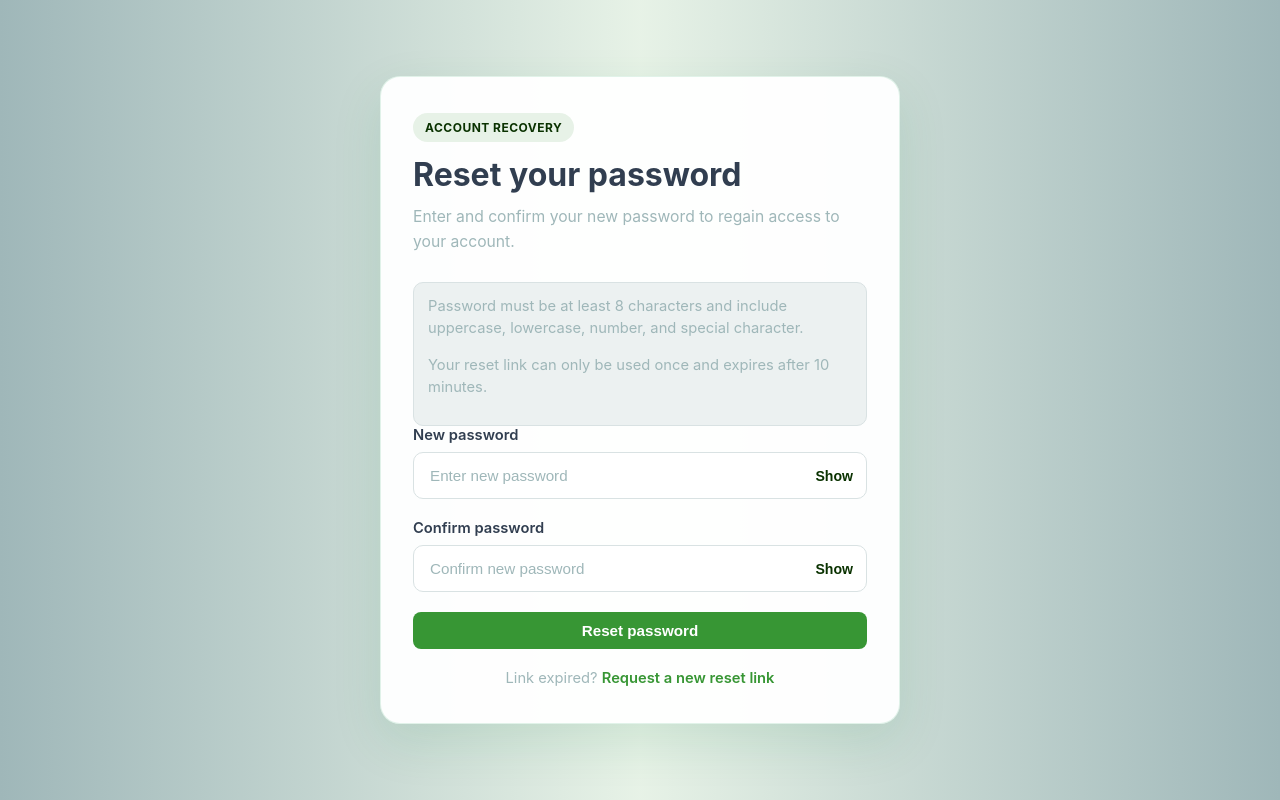
Test case: ResetPasswordPage › shows password mismatch validation
Type "Password1234@" into the password field labelled "New password" at coordinates (640, 476), box [413,452,867,499]
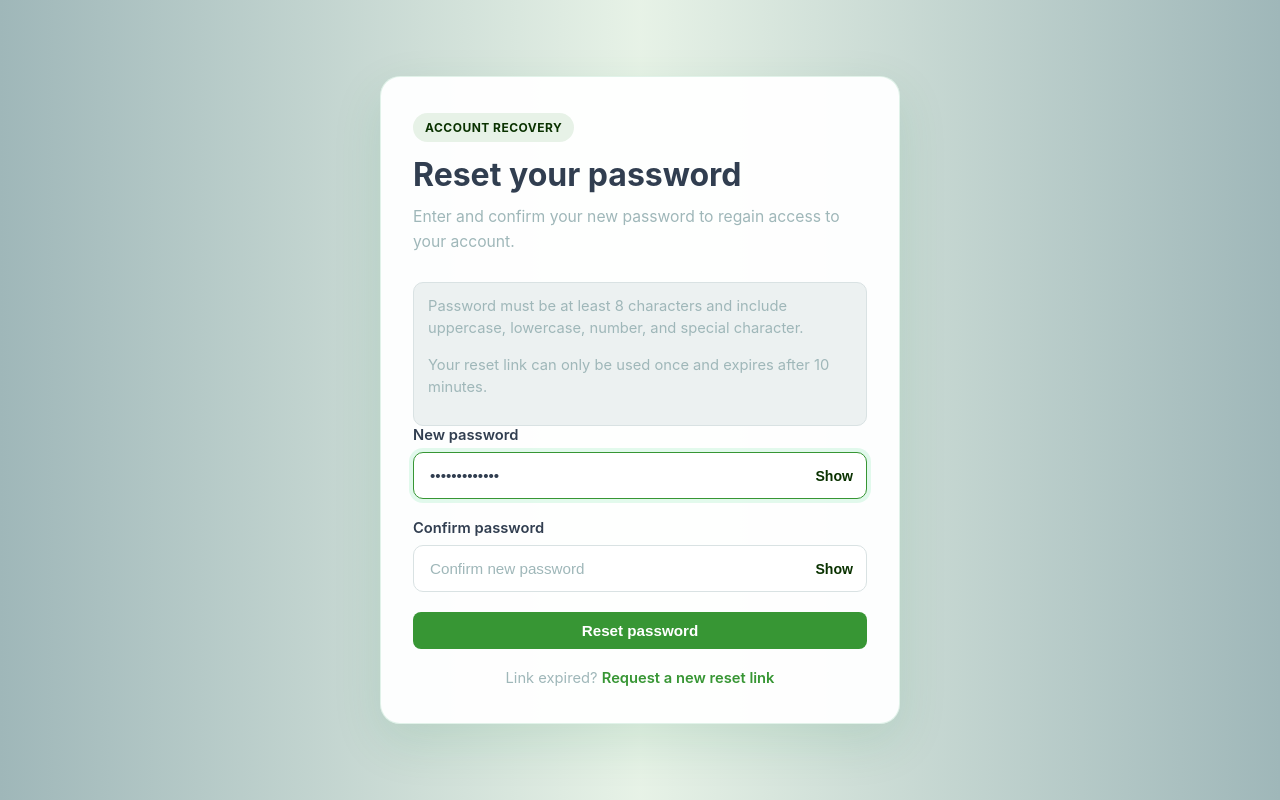
Type "Password12345@" into the password field labelled "Confirm password" at coordinates (640, 569), box [413,545,867,592]
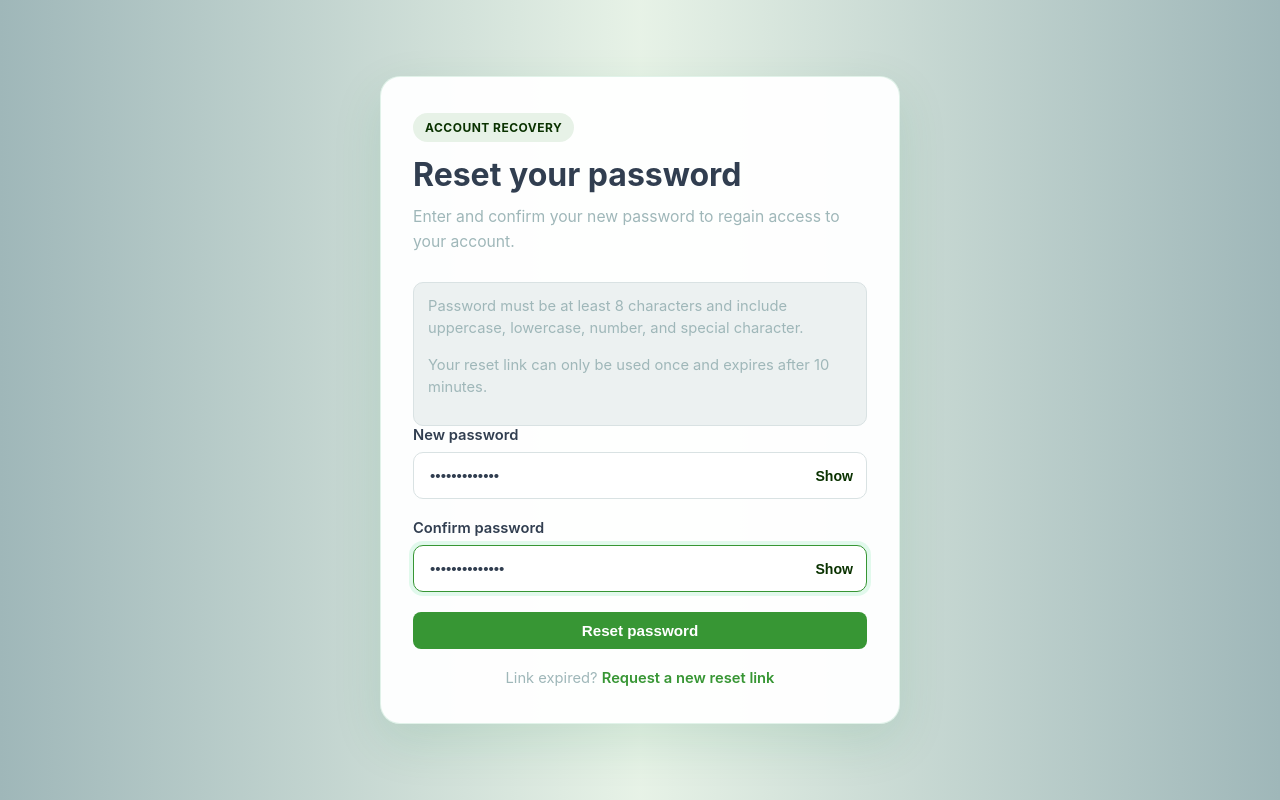
Click the button "Reset password" at coordinates (640, 631), box [413,612,867,649]
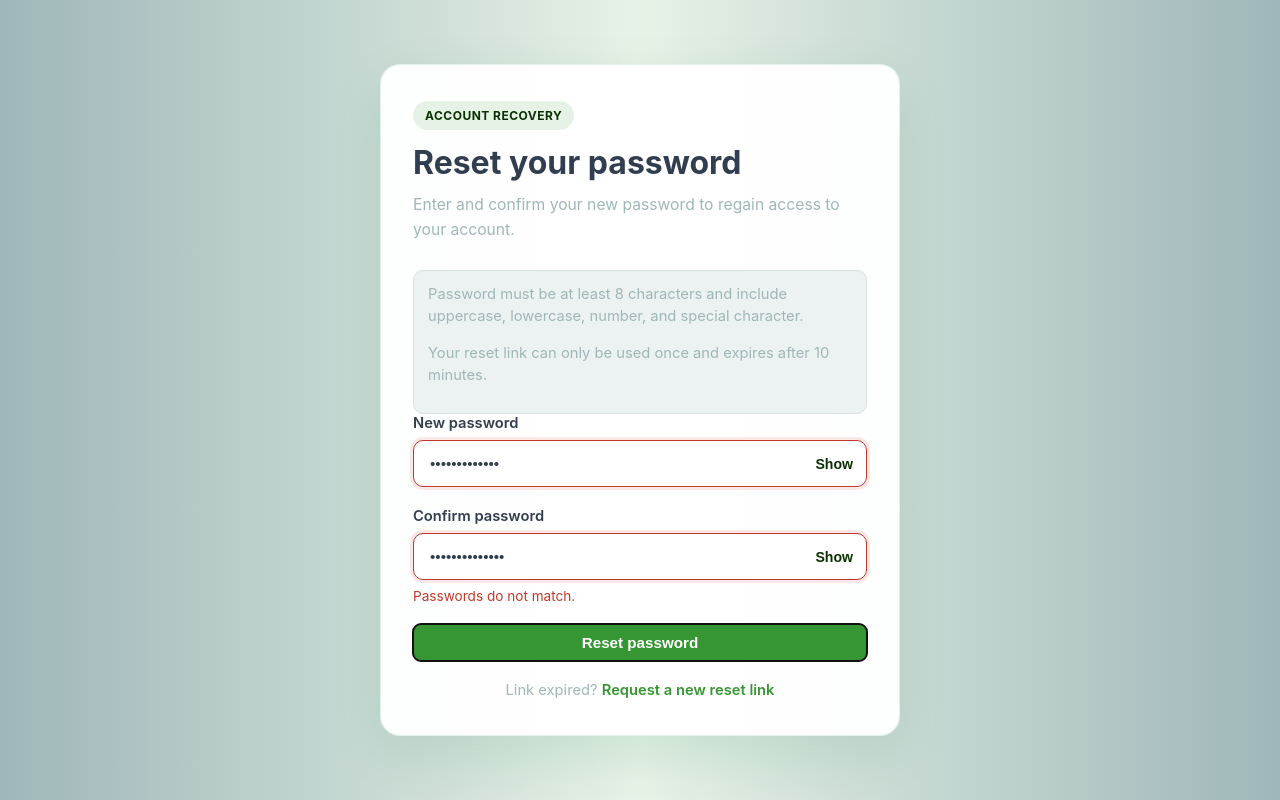
expect the text "Passwords do not match." is shown: met, box [413,588,575,604]
